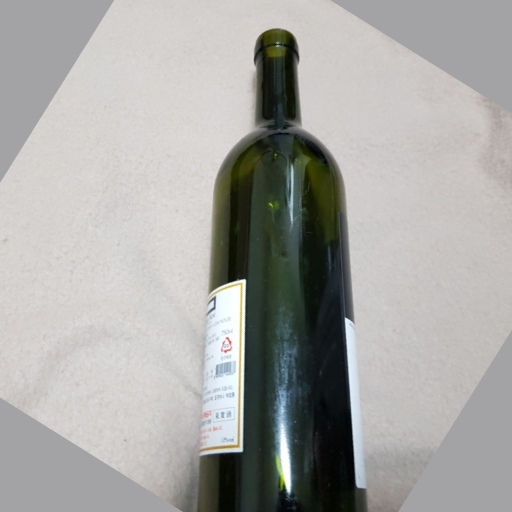Glass_2: (193, 25, 367, 512)
